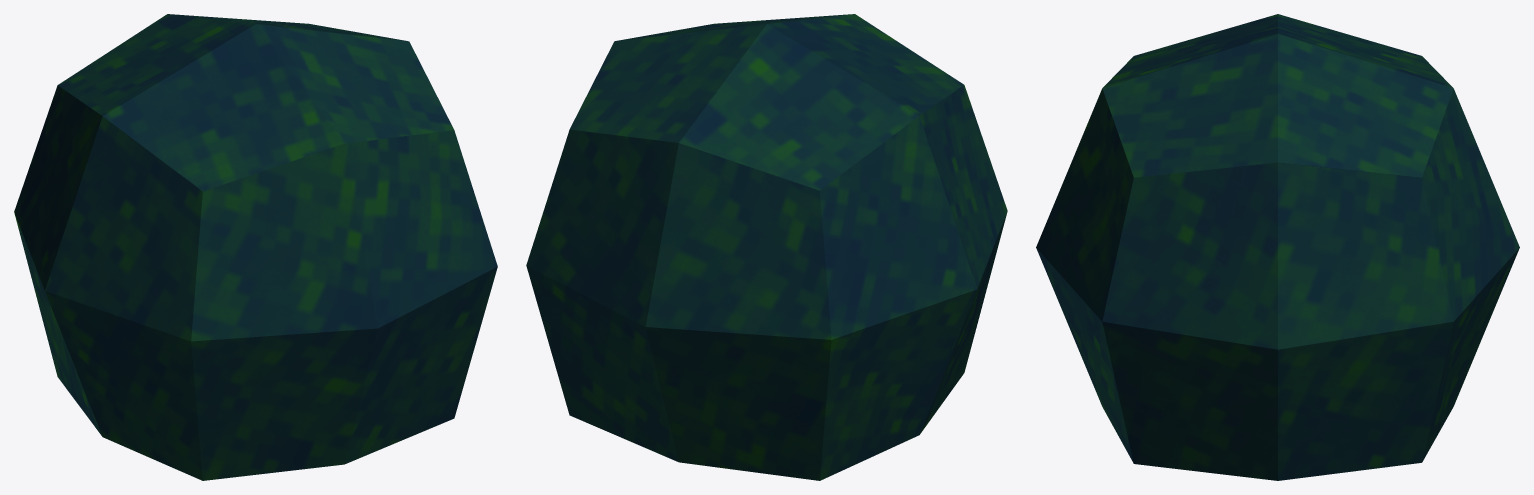
Rendered from bush.fbx.
3 views of the same model, side by side, from view 1: azimuth 30°, elevation 25°; view 2: azimuth 150°, elevation 25°; view 3: azimuth 270°, elevation 25° (orthographic).
Parts seen in each view (by area): view 1: ker; view 2: ker; view 3: ker.
Boxes of the visible parts, x1,y1,x2,y2 form: ker: (14,14,497,480); ker: (526,14,1007,480); ker: (1036,14,1519,480).
Bounding box in the file's own units: 98.91 × 84.06 × 98.91.
